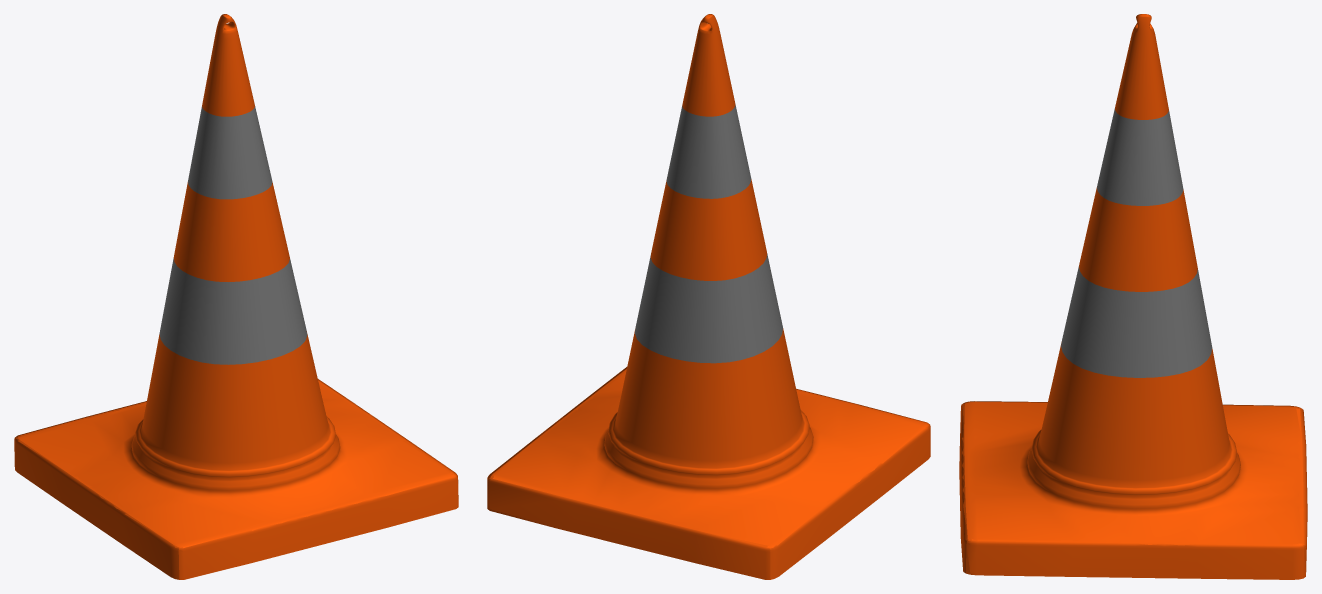
Rendered from traffic_cone.obj.
3 views of the same model, side by side, from view 1: azimuth 30°, elevation 25°; view 2: azimuth 150°, elevation 25°; view 3: azimuth 270°, elevation 25° (orthographic). The views are drawn at different scales.
Parts seen in each view (by area): view 1: ID29, ID19, ID41, ID73, ID7, ID65, ID81; view 2: ID29, ID19, ID57, ID73, ID7, ID65, ID81; view 3: ID29, ID19, ID49, ID73, ID7, ID81, ID41, ID57, ID1517.
Boxes of the visible parts, x1,y1,x2,y2 form: ID29: [17, 331, 453, 547]; ID19: [159, 257, 307, 364]; ID41: [178, 475, 458, 578]; ID73: [173, 182, 289, 281]; ID7: [188, 106, 272, 199]; ID65: [14, 438, 179, 578]; ID81: [202, 14, 254, 116]; ID29: [493, 328, 927, 547]; ID19: [635, 253, 782, 363]; ID57: [487, 478, 770, 578]; ID73: [650, 179, 767, 280]; ID7: [666, 104, 751, 198]; ID65: [770, 424, 930, 576]; ID81: [682, 14, 735, 116]; ID29: [964, 342, 1303, 545]; ID19: [1061, 266, 1212, 377]; ID49: [966, 540, 1303, 578]; ID73: [1079, 187, 1197, 291]; ID7: [1097, 108, 1183, 205]; ID81: [1115, 14, 1168, 119]; ID41: [959, 404, 968, 571]; ID57: [1299, 407, 1307, 571]; ID1517: [966, 572, 1303, 579].
Size of the model in its own units: 0.4515 by 0.7055 by 0.4513.
